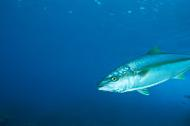Carangidae -Jacks-: (91, 39, 190, 100)
